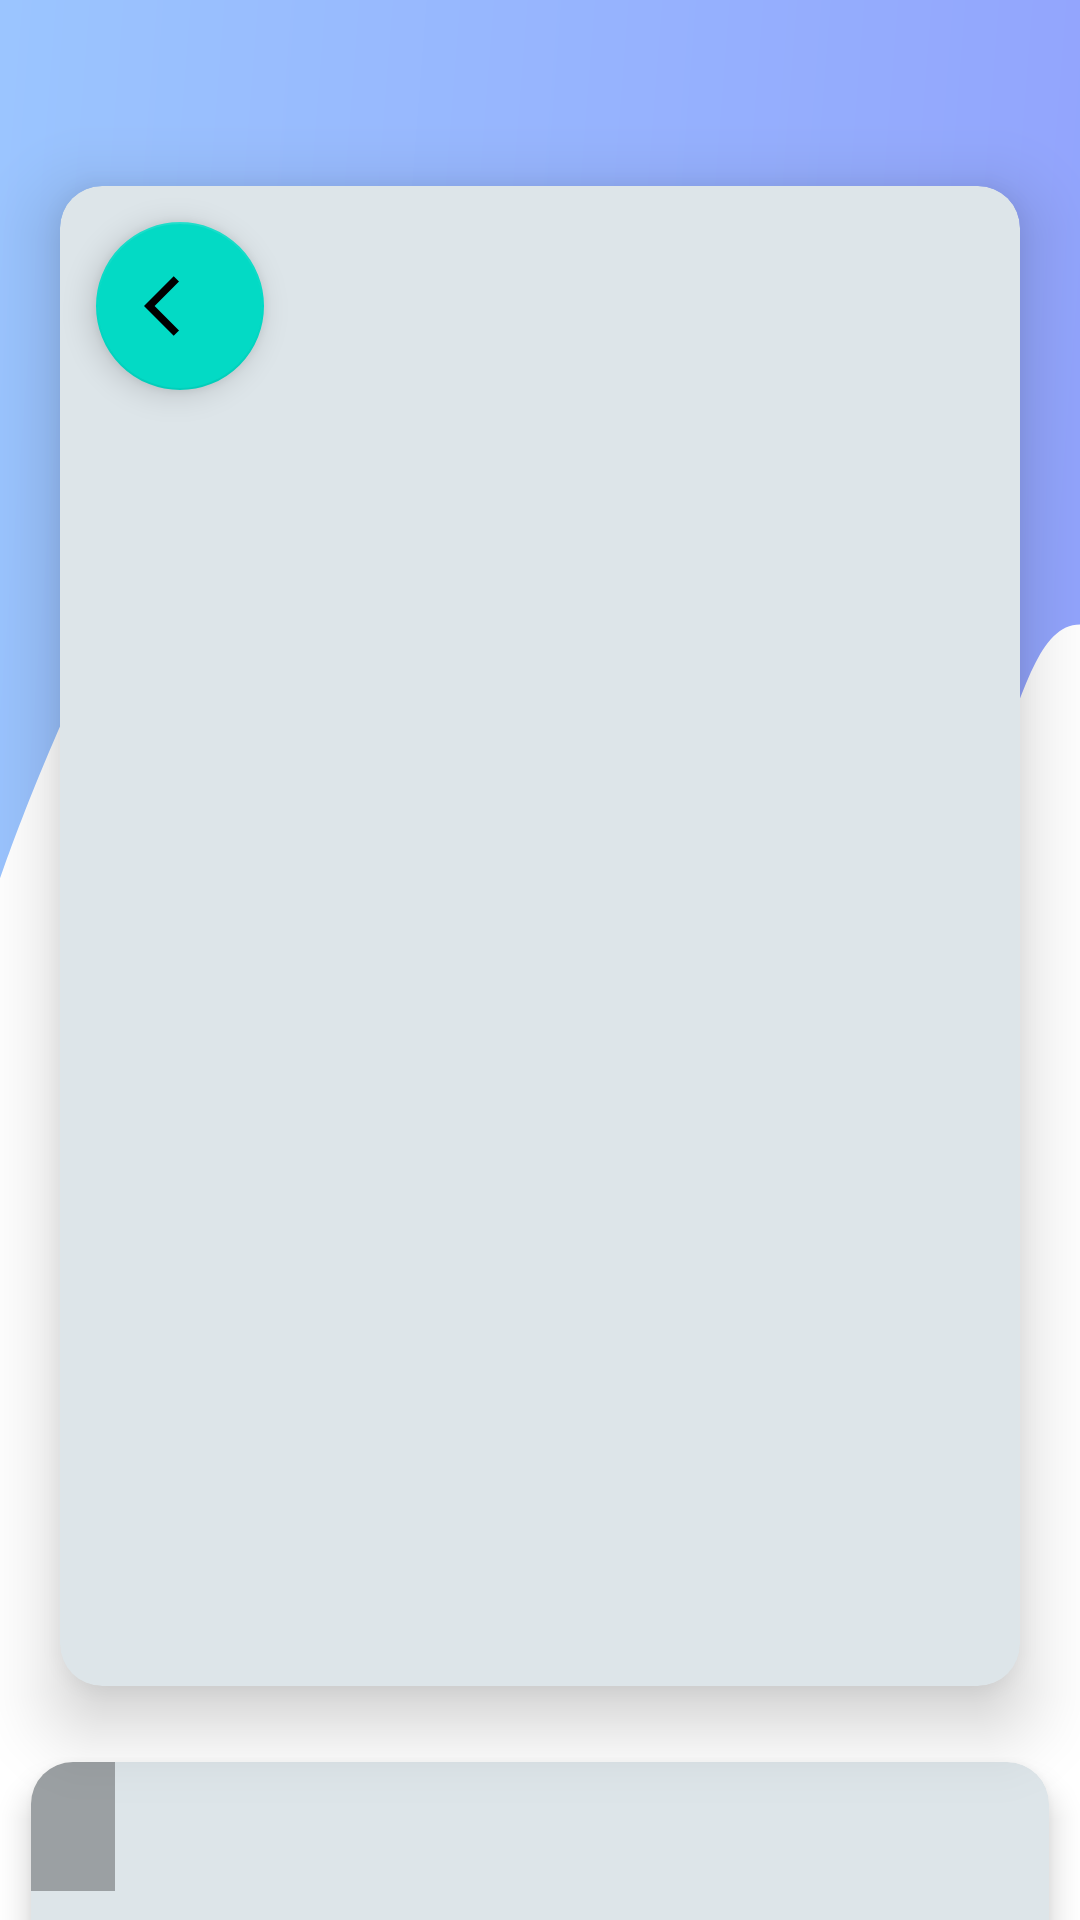

Where icons sit on this 1080px×1920px app screen, as box=[x1, y1, x2, y2]:
Back to List: box=[96, 222, 264, 390]
